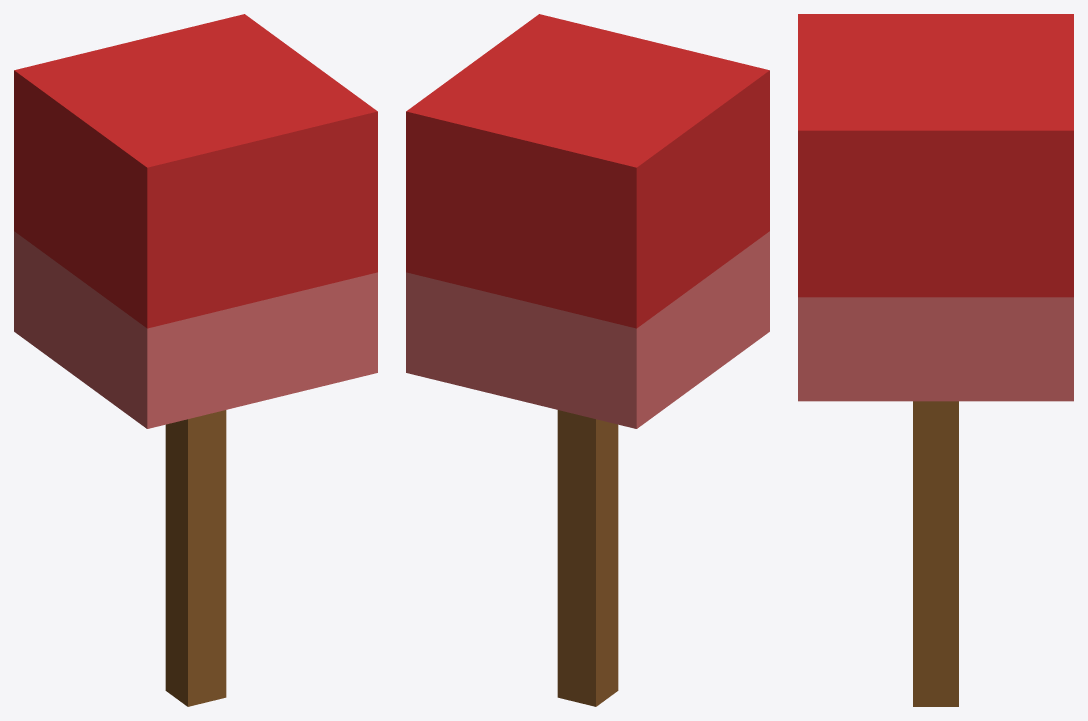
File: Tree_burned.obj
The picture shows the model from 3 angles, left to right: view 1: azimuth 30°, elevation 25°; view 2: azimuth 150°, elevation 25°; view 3: azimuth 270°, elevation 25°; orthographic projection. The views are drawn at different scales.
Bounding box in the file's own units: 1.2 × 3 × 1.2.
1 material, 1 textured.
